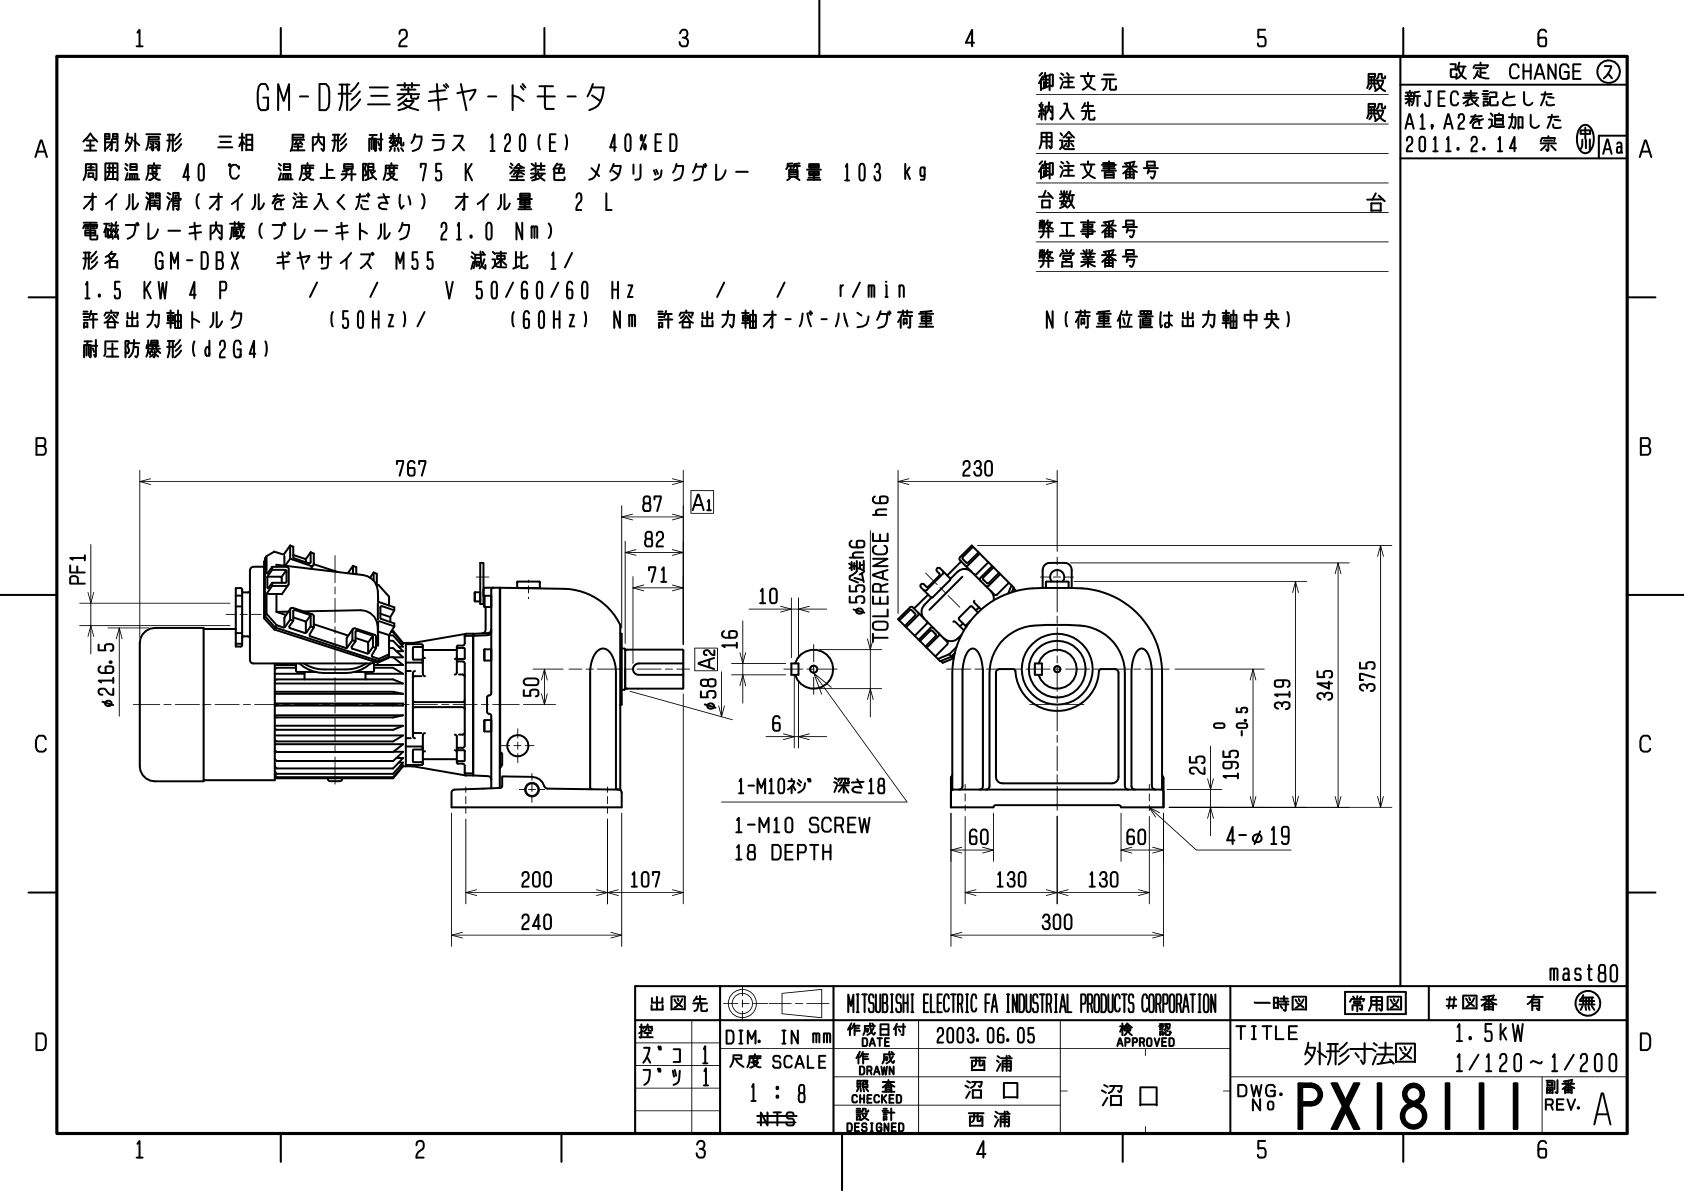GM_D_耐圧屋内_三相_脚: (63, 398, 1395, 967)
